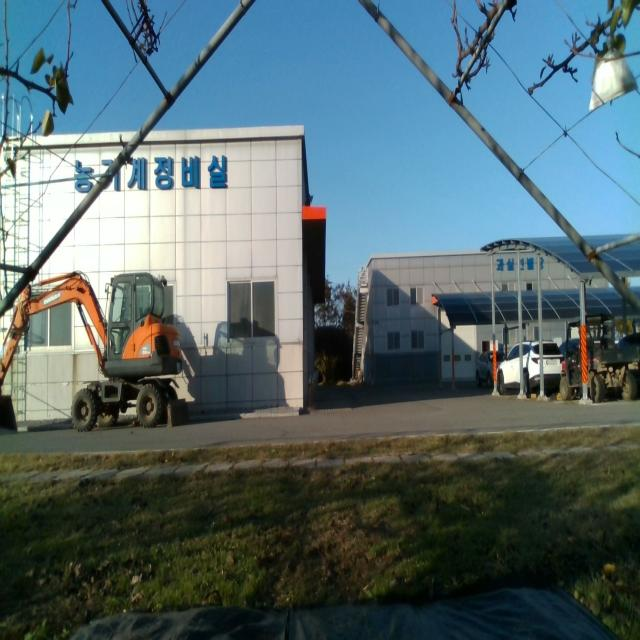pearbags: (589, 49, 637, 114)
